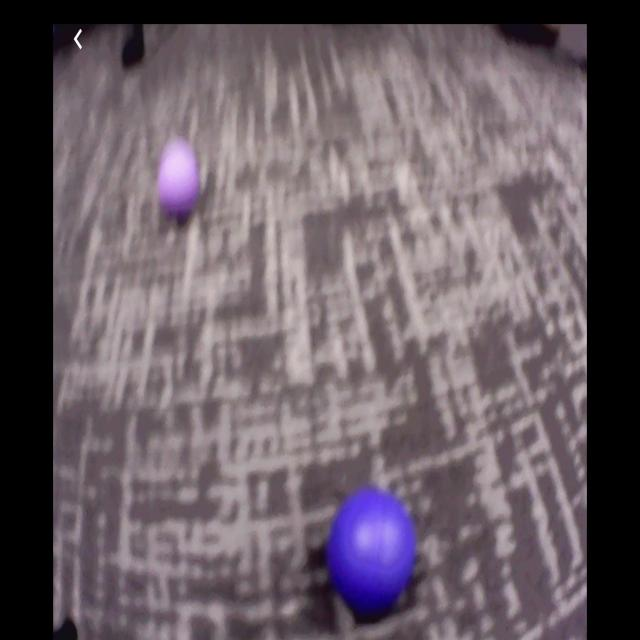ball: (331, 489, 414, 616), (161, 152, 199, 218)
